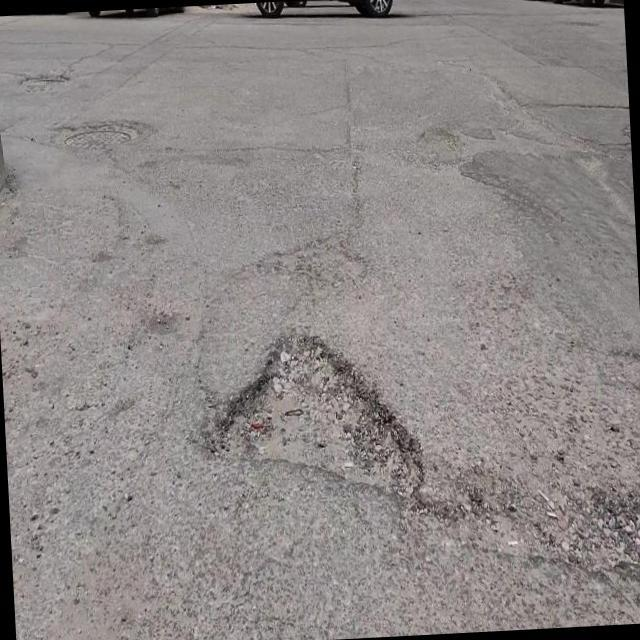Pothole: (211, 325, 414, 497)
